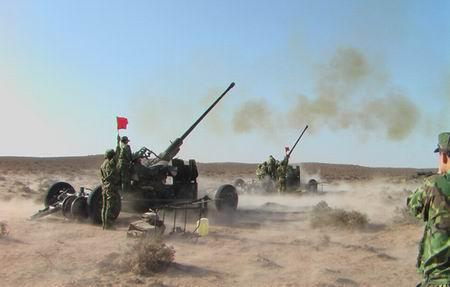MIL_SPG: (125, 82, 235, 210)
